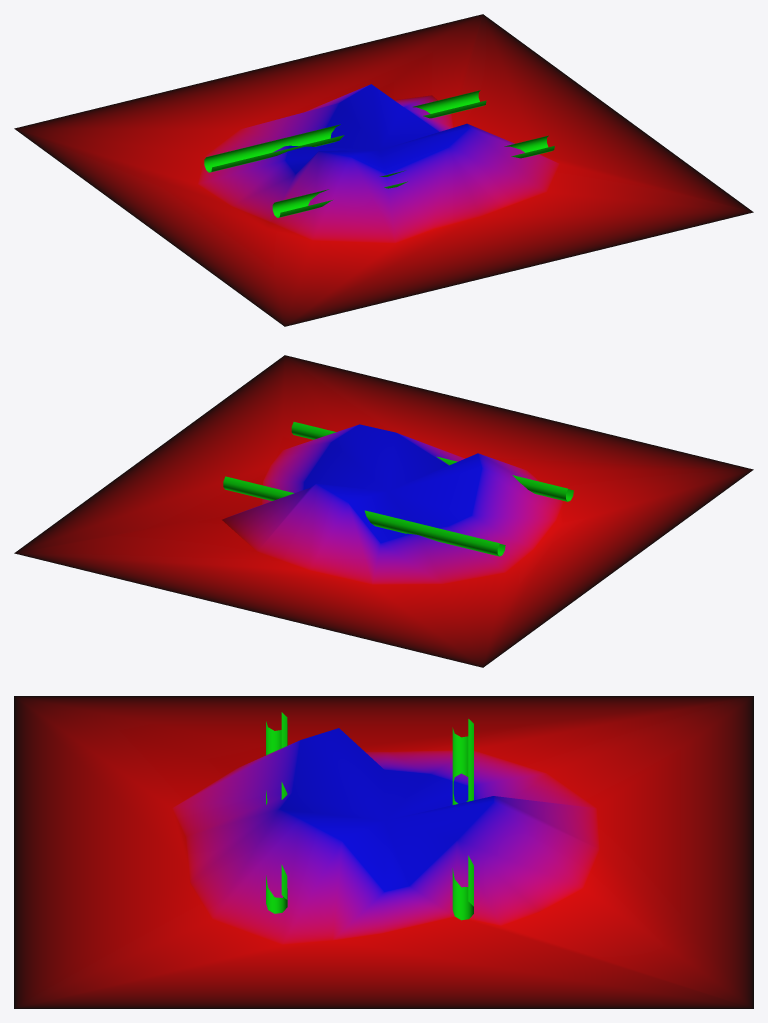
File: CeilingPlaneDamagedV1.fbx
The picture shows the model from 3 angles, top to bottom: view 1: azimuth 30°, elevation 25°; view 2: azimuth 150°, elevation 25°; view 3: azimuth 270°, elevation 25°; orthographic projection. The views are drawn at different scales.
Parts seen in each view (by area): view 1: CeilingPlaneDamagedV1; view 2: CeilingPlaneDamagedV1; view 3: CeilingPlaneDamagedV1.
Boxes of the visible parts, left/top/right/bottom form: CeilingPlaneDamagedV1: left=14, top=14, right=753, bottom=326; CeilingPlaneDamagedV1: left=14, top=355, right=753, bottom=667; CeilingPlaneDamagedV1: left=14, top=696, right=753, bottom=1008.
Bounding box in the file's own units: 200 × 20.91 × 200.
